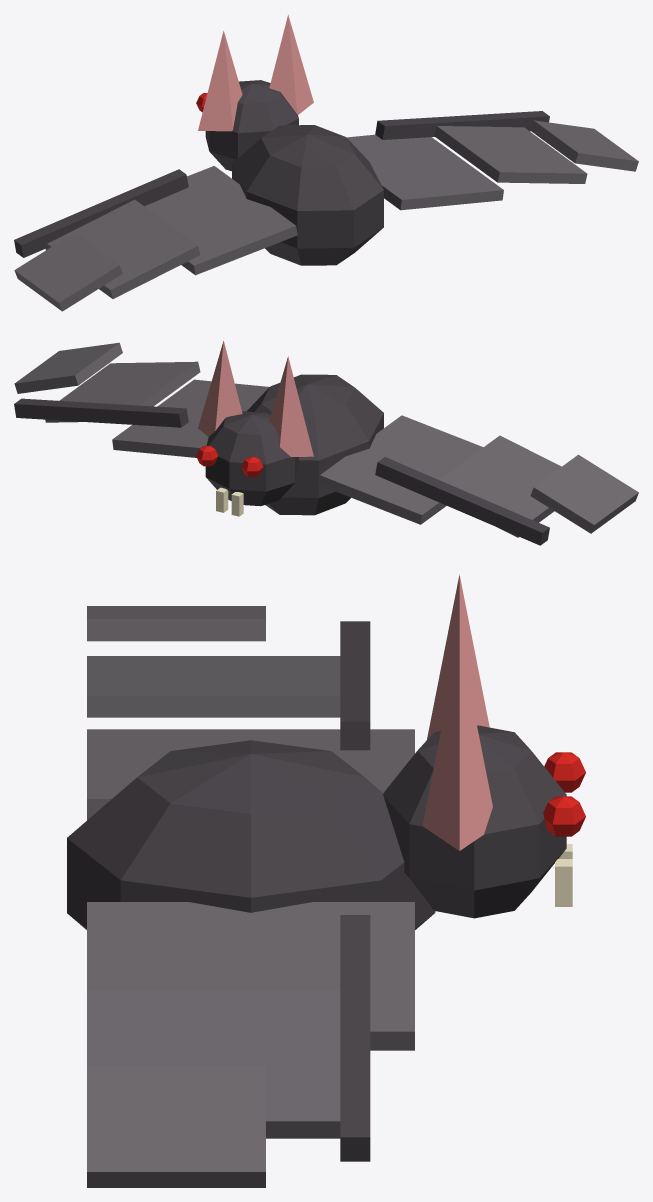
File: enemy_bat.glb
3 views of the same model, one above another, from view 1: azimuth 30°, elevation 25°; view 2: azimuth 150°, elevation 25°; view 3: azimuth 270°, elevation 25° (orthographic). The views are drawn at different scales.
Parts seen in each view (by area): view 1: enemy_bat; view 2: enemy_bat; view 3: enemy_bat.
Part boxes in pixels (x1,y1,x2,y2): enemy_bat: [14, 14, 638, 311]; enemy_bat: [14, 341, 638, 545]; enemy_bat: [67, 574, 585, 1187].
Bounding box in the file's own units: 0.8991 × 0.29 × 0.3486.
Materials: 1 (1 with a texture image).
